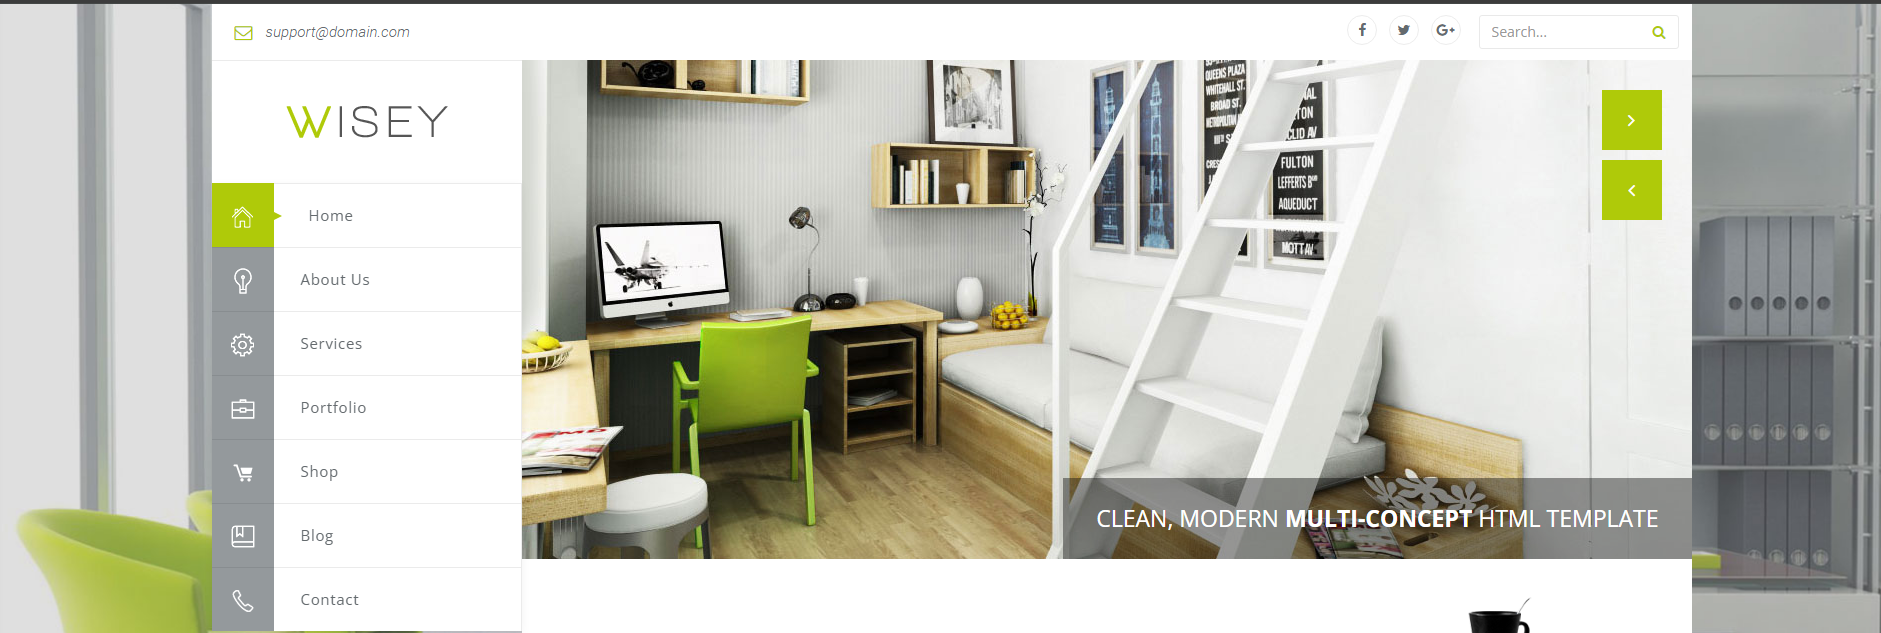menu: (212, 5, 519, 625)
